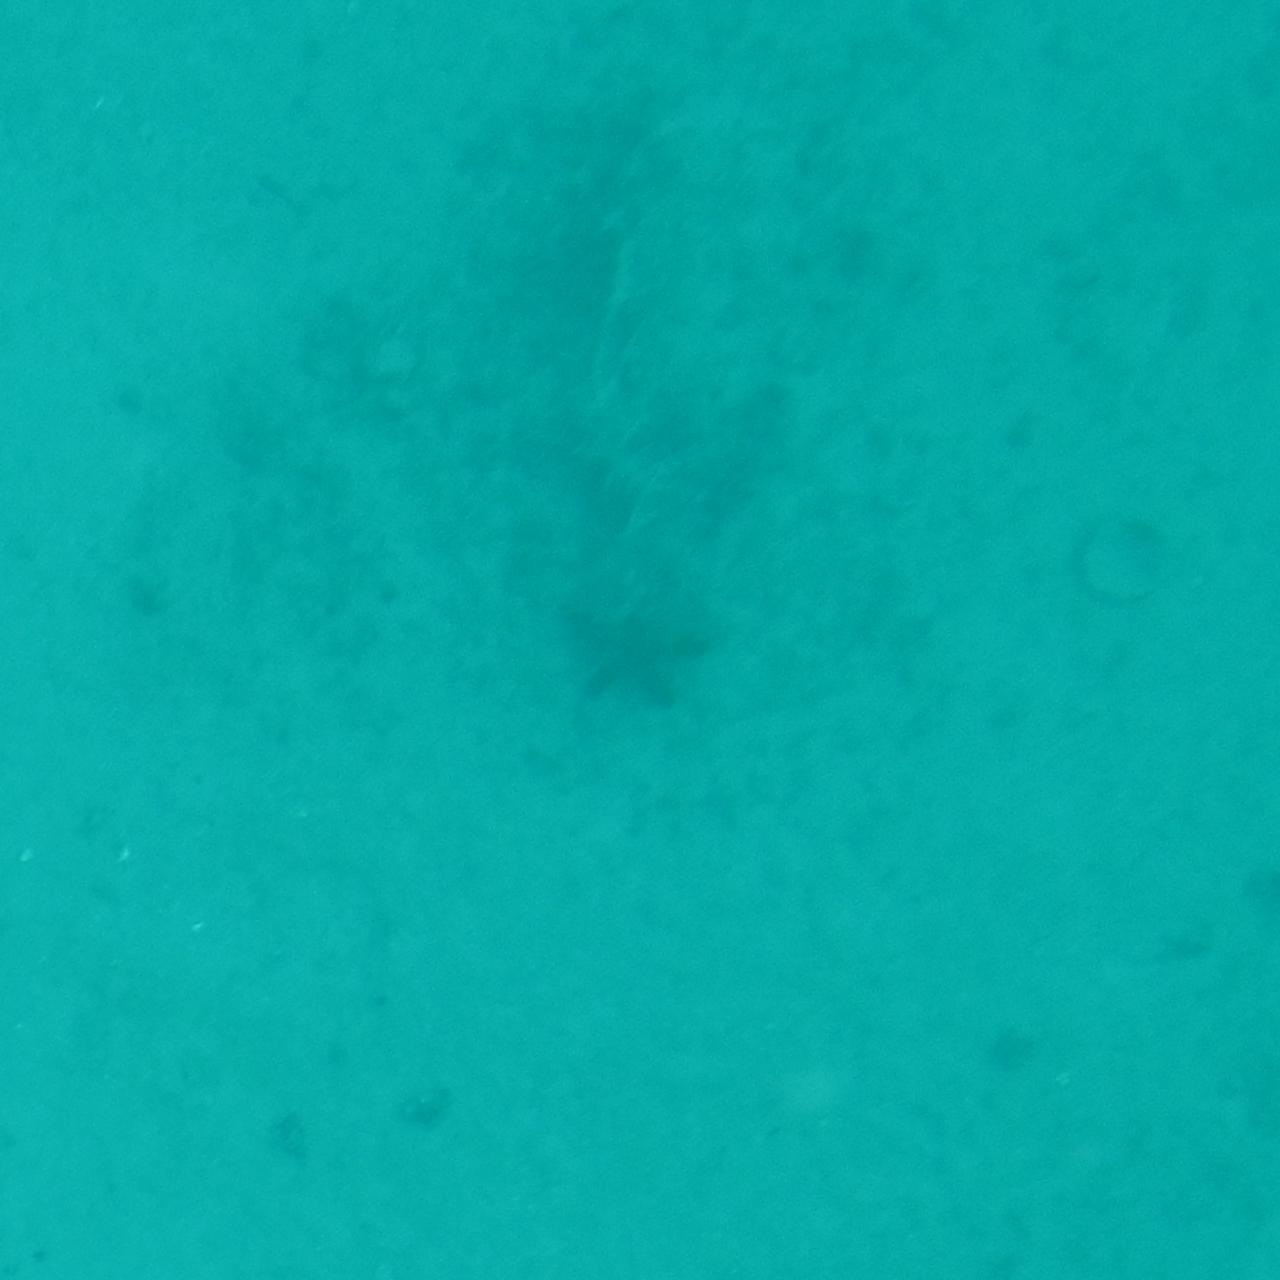Asteroidea: (553, 574, 727, 706)
